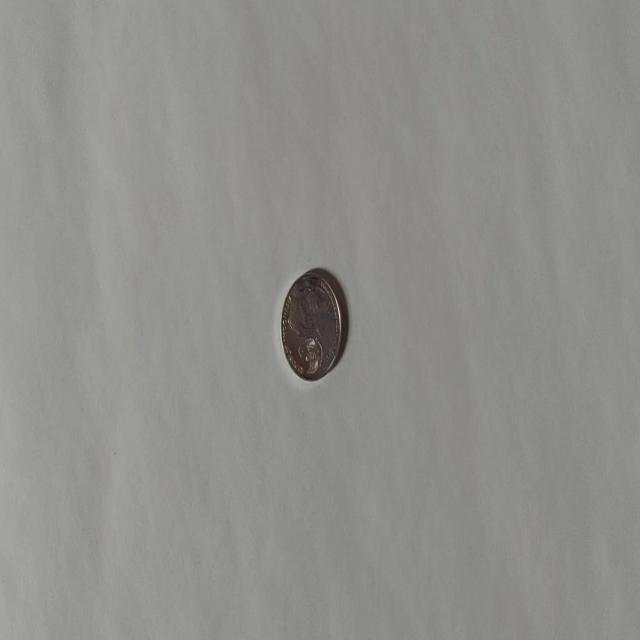dua ratus rupiah: (280, 268, 342, 382)
